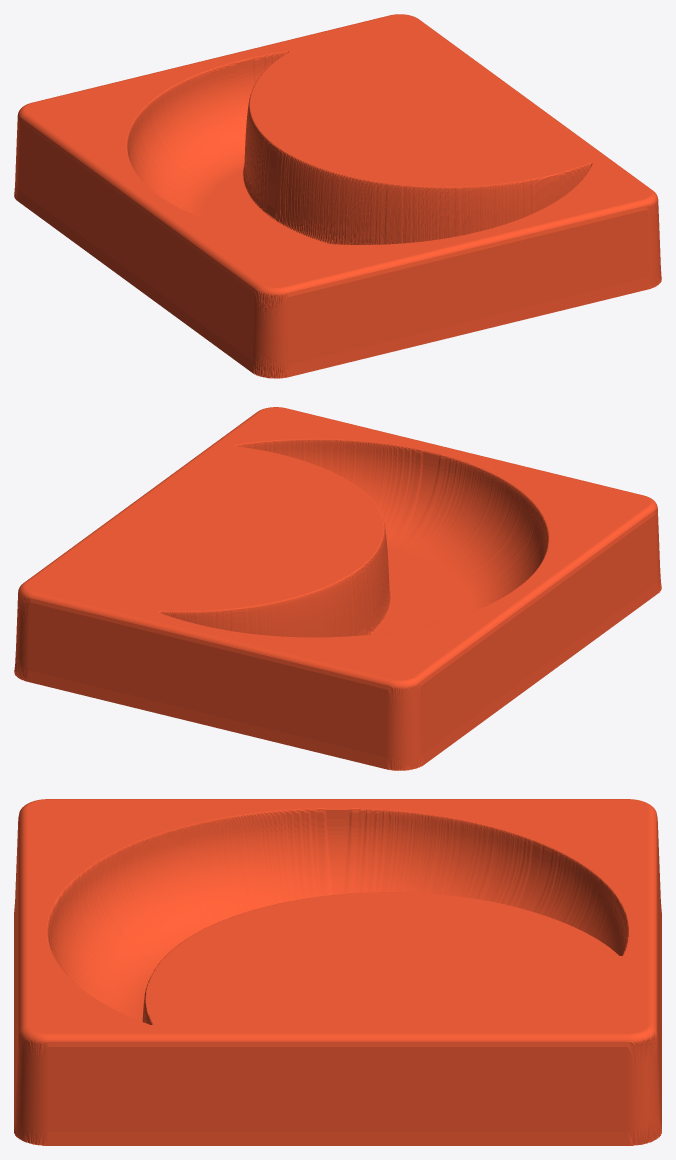
File: mold.glb
3 renders of one model, top to bottom at view 1: azimuth 30°, elevation 25°; view 2: azimuth 150°, elevation 25°; view 3: azimuth 270°, elevation 25°, orthographic. The views are drawn at different scales.
Visible parts, largest first — view 1: geometry_0; view 2: geometry_0; view 3: geometry_0.
Part boxes in pixels (<box>): geometry_0: <box>14,14,661,378</box>; geometry_0: <box>14,407,661,770</box>; geometry_0: <box>14,799,661,1145</box>.
Bounding box in the file's own units: 0.1531 × 0.031 × 0.1709.
